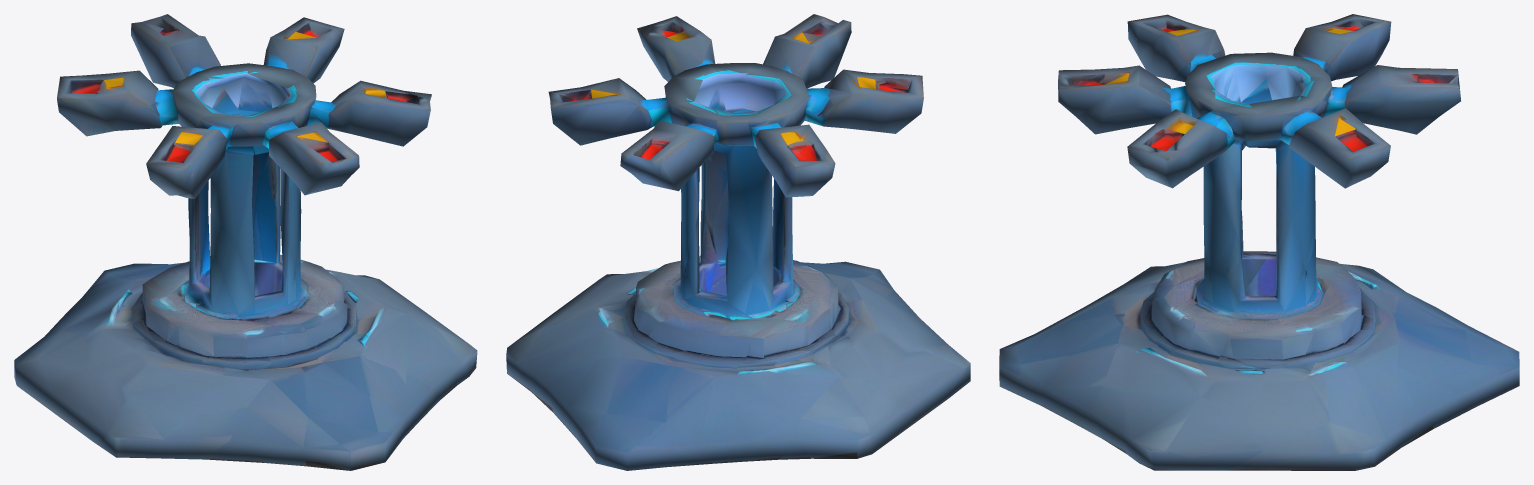
Rendered from teletransporte.glb.
The picture shows the model from 3 angles, left to right: view 1: azimuth 30°, elevation 25°; view 2: azimuth 150°, elevation 25°; view 3: azimuth 270°, elevation 25°; orthographic projection. The views are drawn at different scales.
Parts seen in each view (by area): view 1: Mesh_0; view 2: Mesh_0; view 3: Mesh_0.
Boxes of the visible parts, <box> form: Mesh_0: <box>14,14,477,470</box>; Mesh_0: <box>506,14,970,470</box>; Mesh_0: <box>999,14,1519,470</box>.
Bounding box in the file's own units: 1.68 × 1.29 × 2.
Materials: 1 (1 with a texture image).
